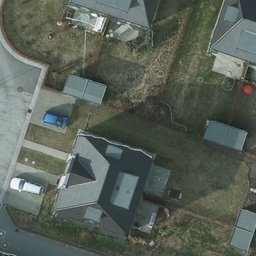car: (10, 175, 44, 195), (41, 108, 67, 129)
